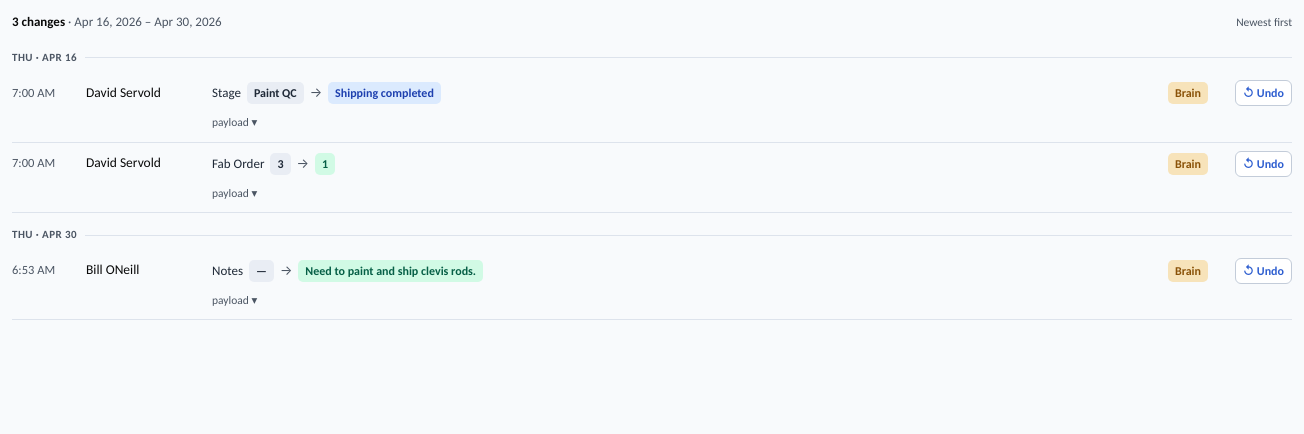
Test: EventsList variant=hub › expands payload on toggle
Expected: the text "3 changes" is shown, [12, 14, 65, 29]
Click the button "payload ▾" below "Stage" at (235, 123), box [212, 114, 257, 131]
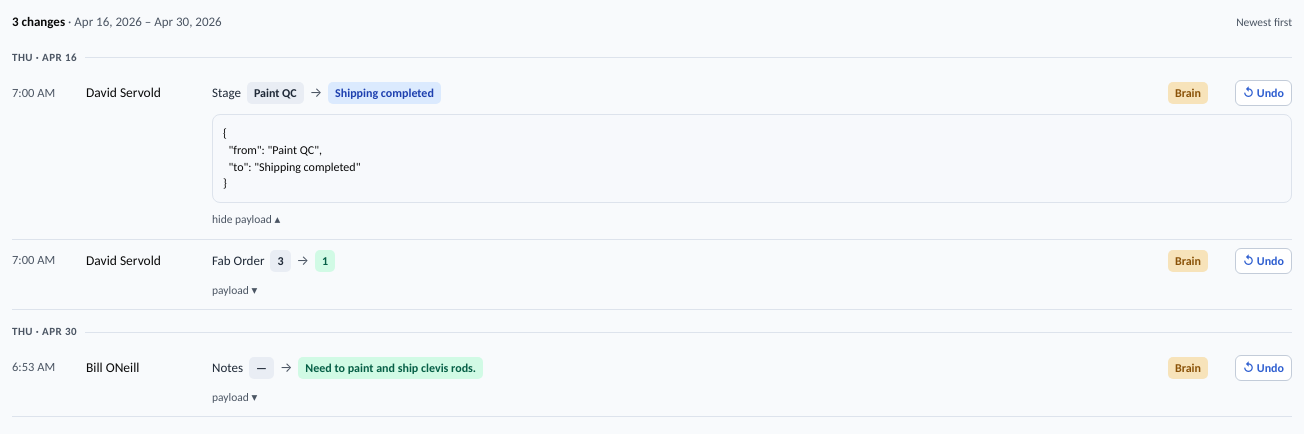
Now the text "{ \"from\": \"Paint QC\", \"to\": \"Shipping completed\" }" is shown, box [212, 114, 1292, 203]
